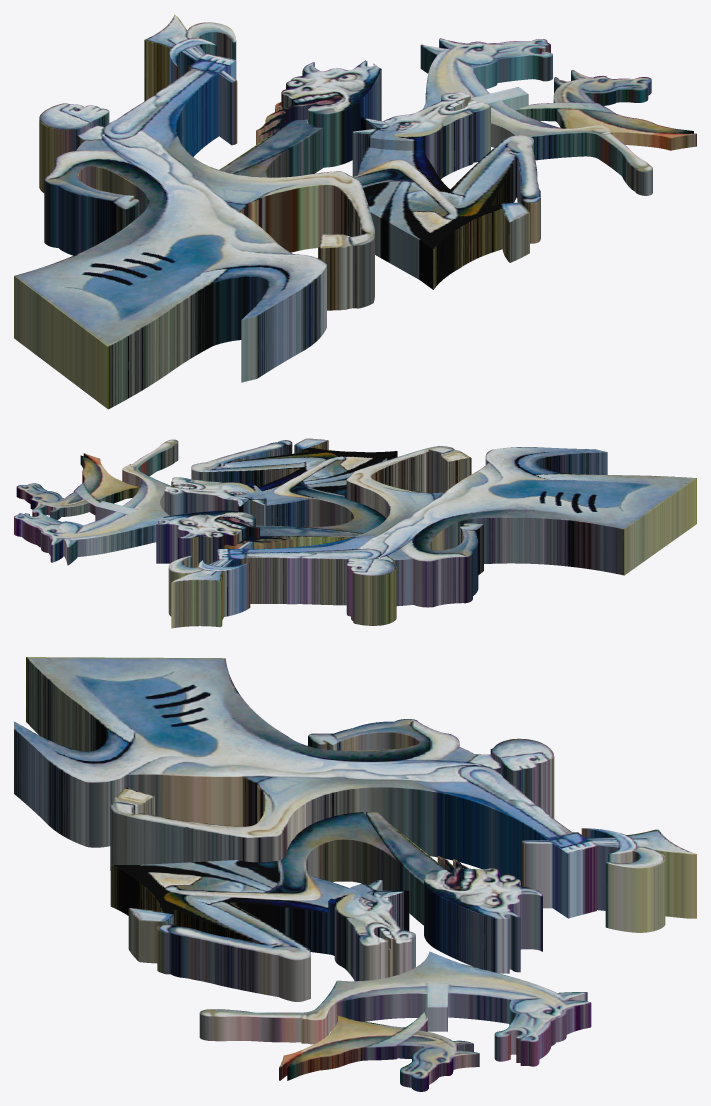
File: Muro apocalipsis 4.dae
3 renders of one model, top to bottom at view 1: azimuth 30°, elevation 25°; view 2: azimuth 150°, elevation 25°; view 3: azimuth 270°, elevation 25°, orthographic. The views are drawn at different scales.
Visible parts, largest first — view 1: SketchUp (×5); view 2: SketchUp (×6); view 3: SketchUp (×5).
Part boxes in pixels (<box>): SketchUp (×5): <box>14,14,696,409</box>; SketchUp (×6): <box>14,438,696,628</box>; SketchUp (×5): <box>14,657,696,1091</box>.
Size of the model in its own units: 77.6 by 60.49 by 6.88.
2 materials, 1 textured.
